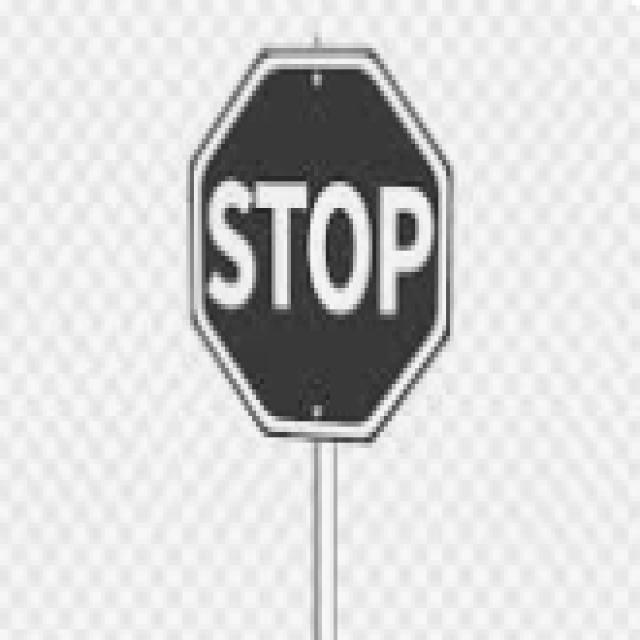Stop-signs: (190, 49, 456, 443)
